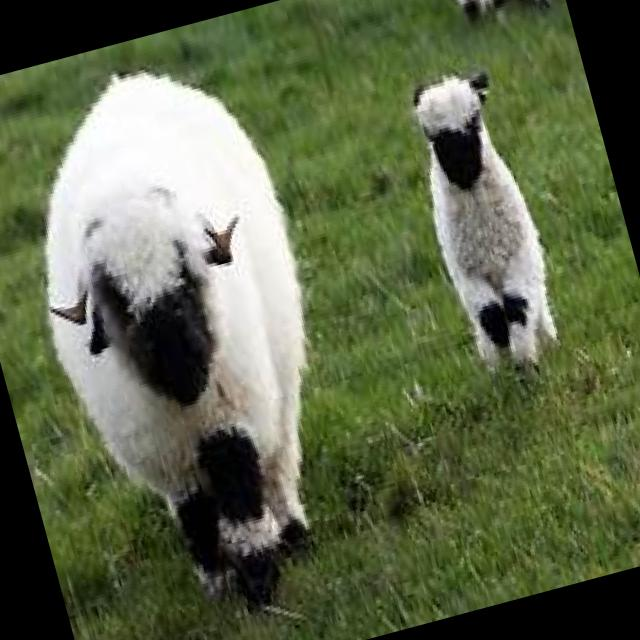sheep: (0, 37, 385, 640), (396, 58, 578, 394), (441, 0, 560, 30)
